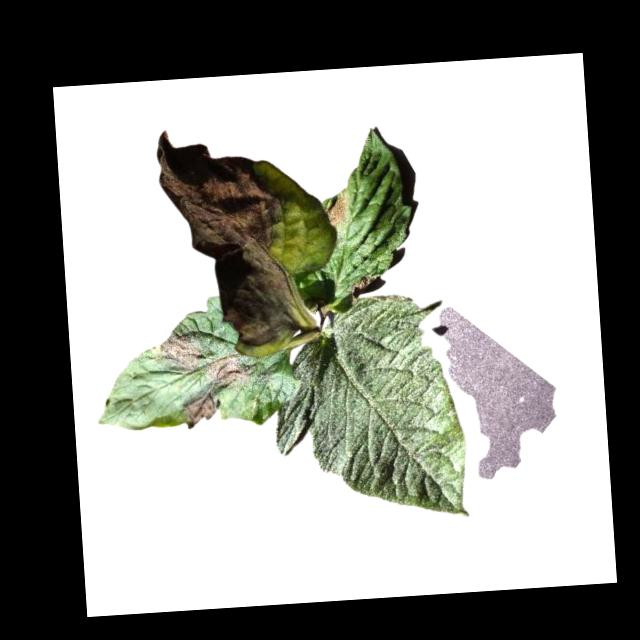Late_blight: (153, 123, 295, 363), (147, 330, 205, 378), (204, 352, 256, 390), (179, 389, 220, 431), (323, 192, 347, 230), (347, 275, 375, 300)
healthy: (267, 291, 471, 530)
